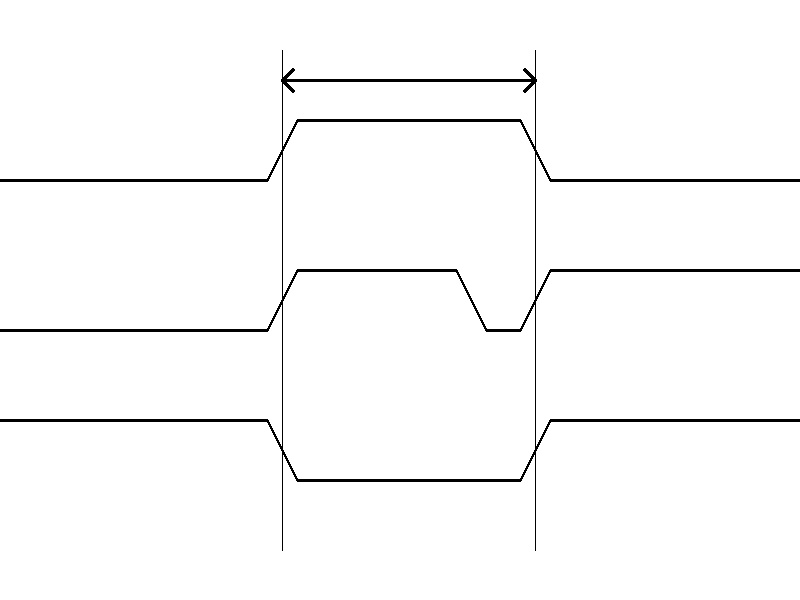double_arrow: (282, 65, 535, 95)
